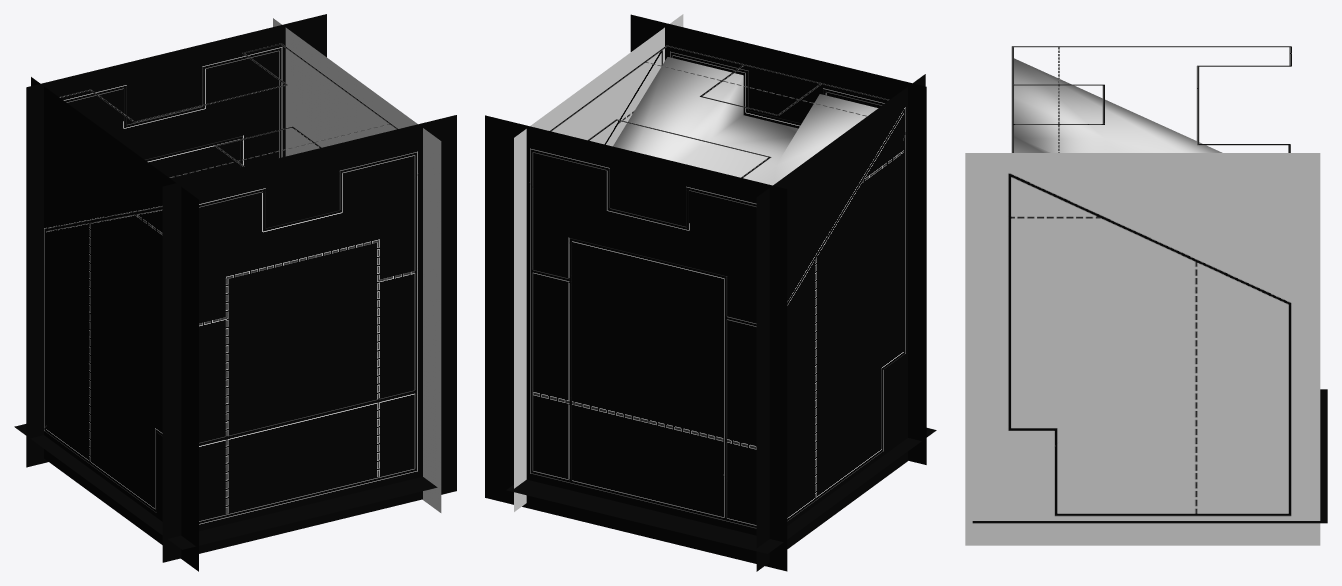
The model's file is N2_full.fbx.
The picture shows the model from 3 angles, left to right: view 1: azimuth 30°, elevation 25°; view 2: azimuth 150°, elevation 25°; view 3: azimuth 270°, elevation 25°; orthographic projection. The views are drawn at different scales.
Parts seen in each view (by area): view 1: N2_Inferior_Final; view 2: N2_Inferior_Final; view 3: N2_Inferior_Final.
Part boxes in pixels (bbox=[...]): N2_Inferior_Final: bbox=[14, 14, 456, 571]; N2_Inferior_Final: bbox=[485, 14, 936, 571]; N2_Inferior_Final: bbox=[965, 46, 1327, 545].
Bounding box in the file's own units: 79.71 × 96.38 × 78.54.
